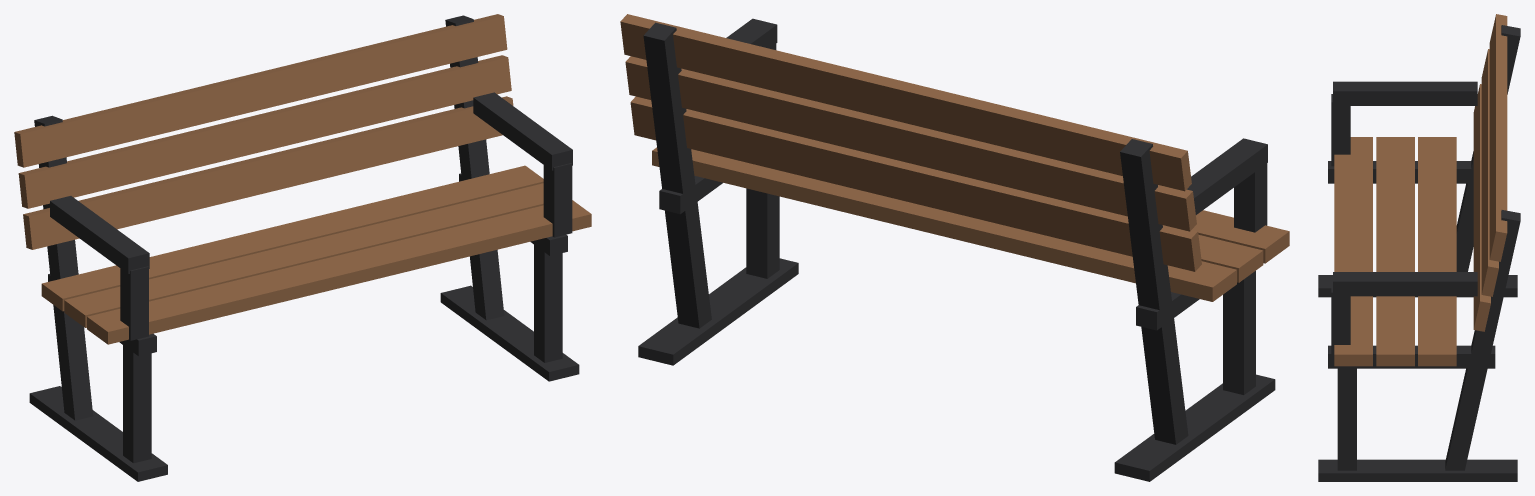
File: objet_banc.glb
3 views of the same model, side by side, from view 1: azimuth 30°, elevation 25°; view 2: azimuth 150°, elevation 25°; view 3: azimuth 270°, elevation 25° (orthographic). The views are drawn at different scales.
Parts seen in each view (by area): view 1: objet_banc; view 2: objet_banc; view 3: objet_banc.
Boxes of the visible parts, left/top/right/bottom form: objet_banc: left=14, top=14, right=591, bottom=481; objet_banc: left=620, top=14, right=1289, bottom=481; objet_banc: left=1318, top=14, right=1520, bottom=481.
Size of the model in its own units: 1.6 by 0.897 by 0.6288.
